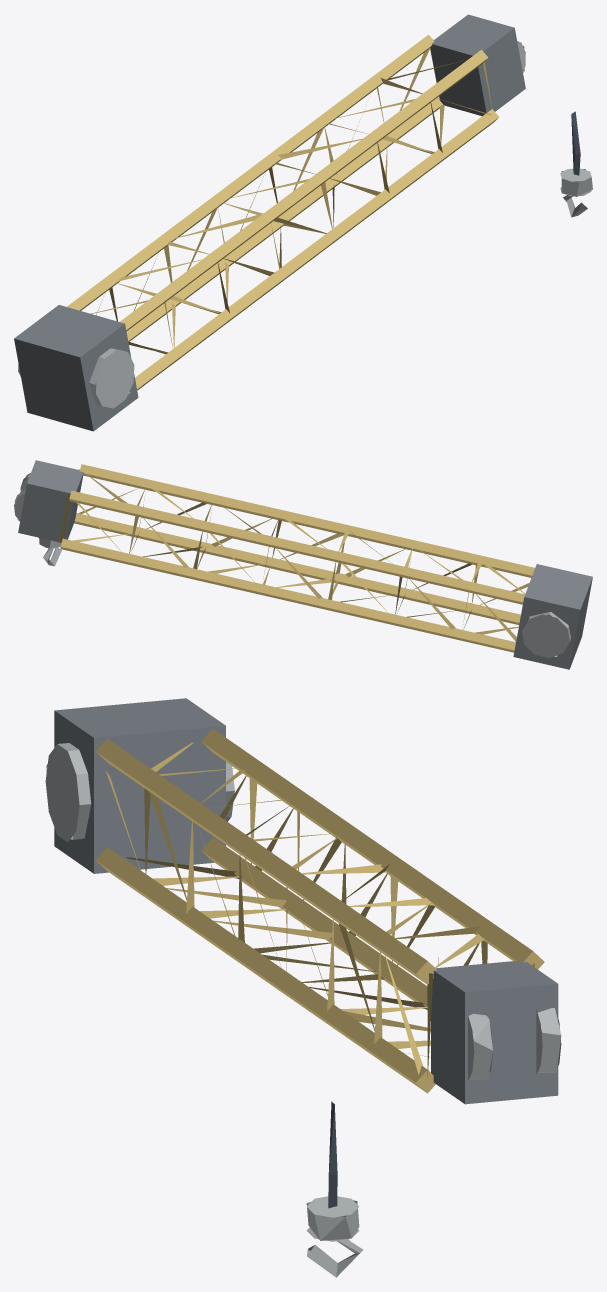
3 views of the same model, one above another, from view 1: azimuth 30°, elevation 25°; view 2: azimuth 150°, elevation 25°; view 3: azimuth 270°, elevation 25° (orthographic). The views are drawn at different scales.
Parts seen in each view (by area): view 1: sea_crane_arm.001; view 2: sea_crane_arm.001; view 3: sea_crane_arm.001.
Boxes of the visible parts, x1,y1,x2,y2 form: sea_crane_arm.001: (14,14,592,431); sea_crane_arm.001: (14,460,592,669); sea_crane_arm.001: (45,698,561,1277).
Size of the model in its own units: 7.03 by 1.97 by 3.12.
